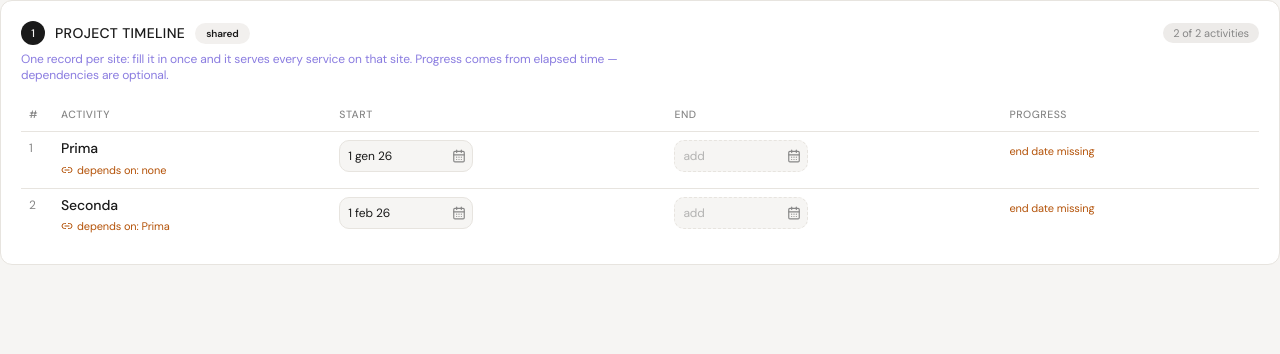
Card 1 · Project timeline › §11 — le dipendenze che creerebbero un ciclo non si possono scegliere
This screenshot has width=1280, height=354.
Note: «Prima» non può dipendere da «Seconda»: sarebbe un anello.
Step 1. Click the button "depends on: none" → (114, 170), box [61,160,166,180]
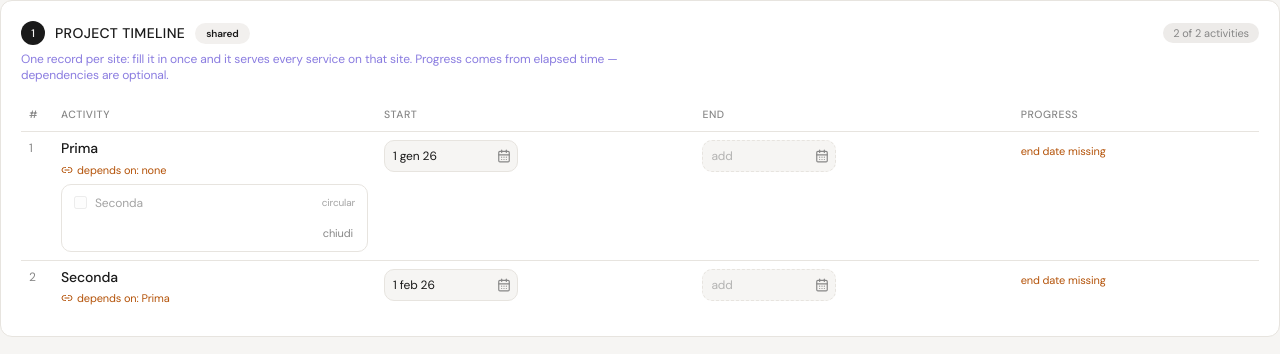
expect the text "circular" is shown: met, box [322,194,355,210]
